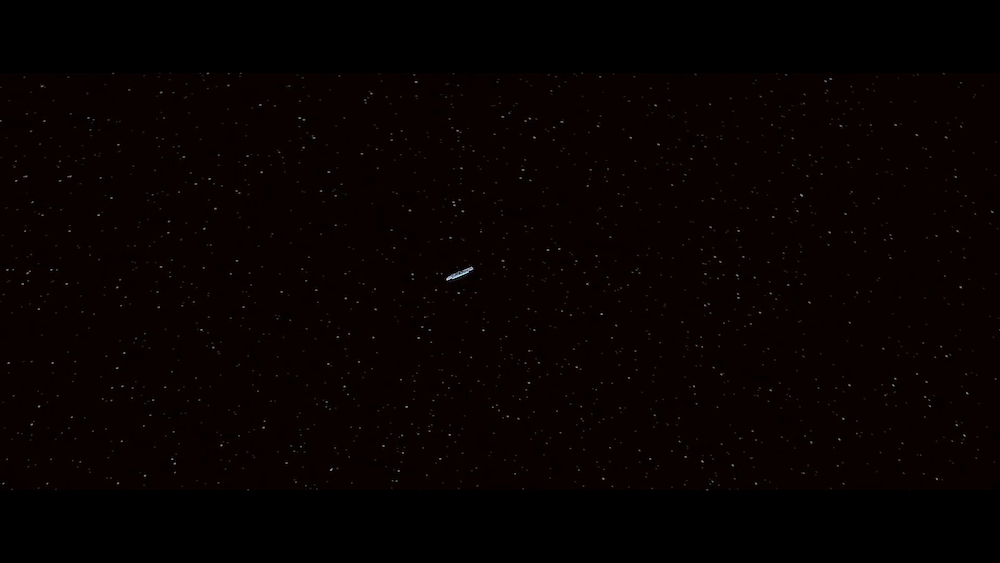Millennium Falcon: (447, 268, 474, 283)
